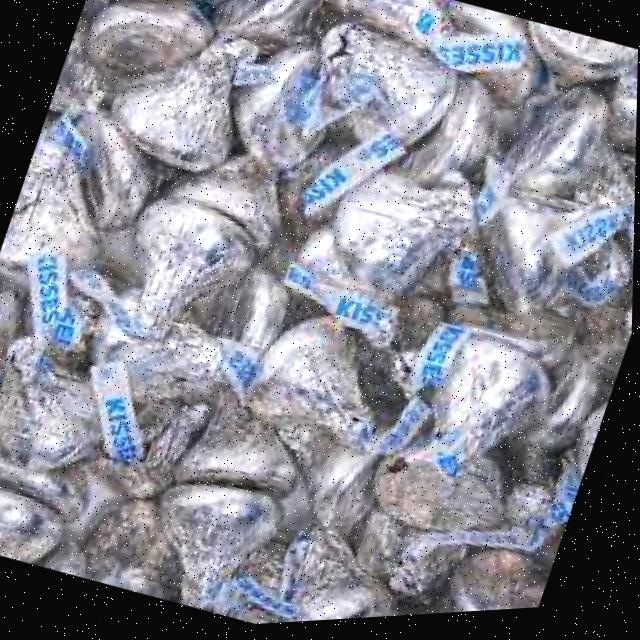kisses: (445, 156, 637, 354), (96, 176, 278, 372), (396, 317, 575, 515), (309, 148, 490, 334), (96, 9, 272, 195), (291, 14, 473, 188), (237, 293, 412, 462), (193, 21, 355, 193), (130, 459, 292, 630), (0, 135, 149, 318), (489, 72, 638, 249), (366, 404, 529, 559), (170, 370, 333, 524), (0, 323, 138, 502), (262, 506, 427, 627), (409, 0, 562, 119), (201, 0, 356, 80), (424, 536, 558, 620), (87, 0, 249, 35)
